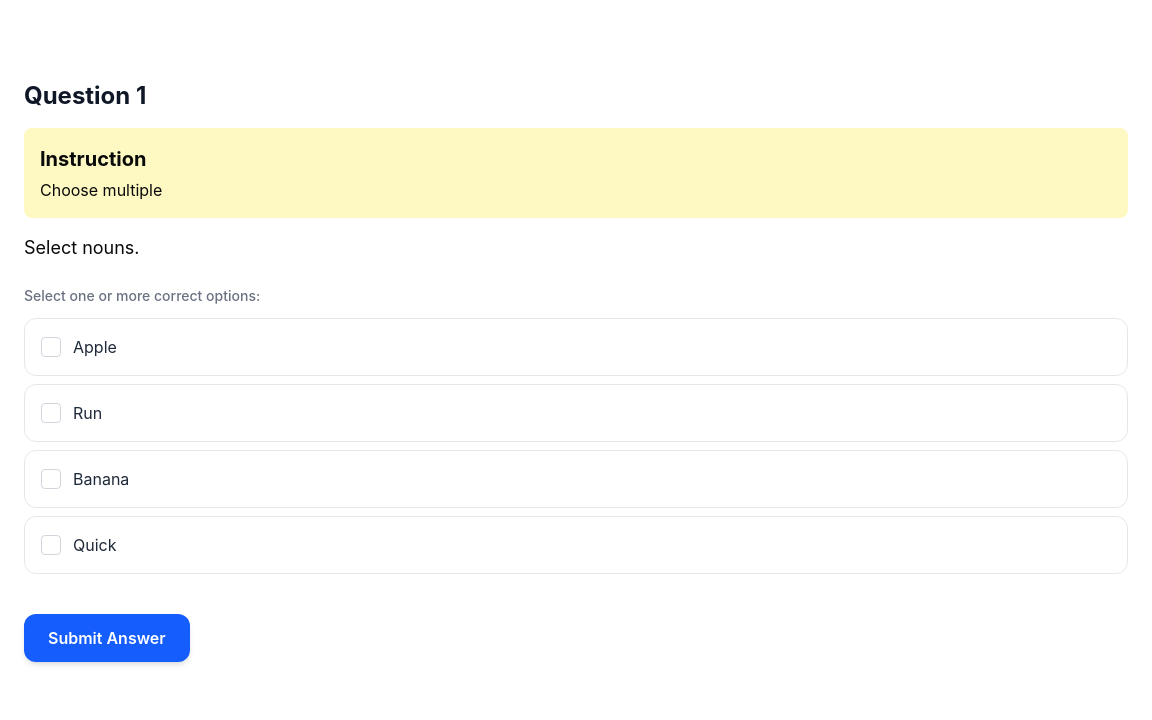
Test: QuestionPage - Reading & Listening MCQs › interacts and submits MCQ Multiple Choice question
Expected: the text "Select nouns." is shown, [24,237,140,258]
// Toggle options
Click the text "Apple". click: (95, 347)
box: [73,337,117,357]
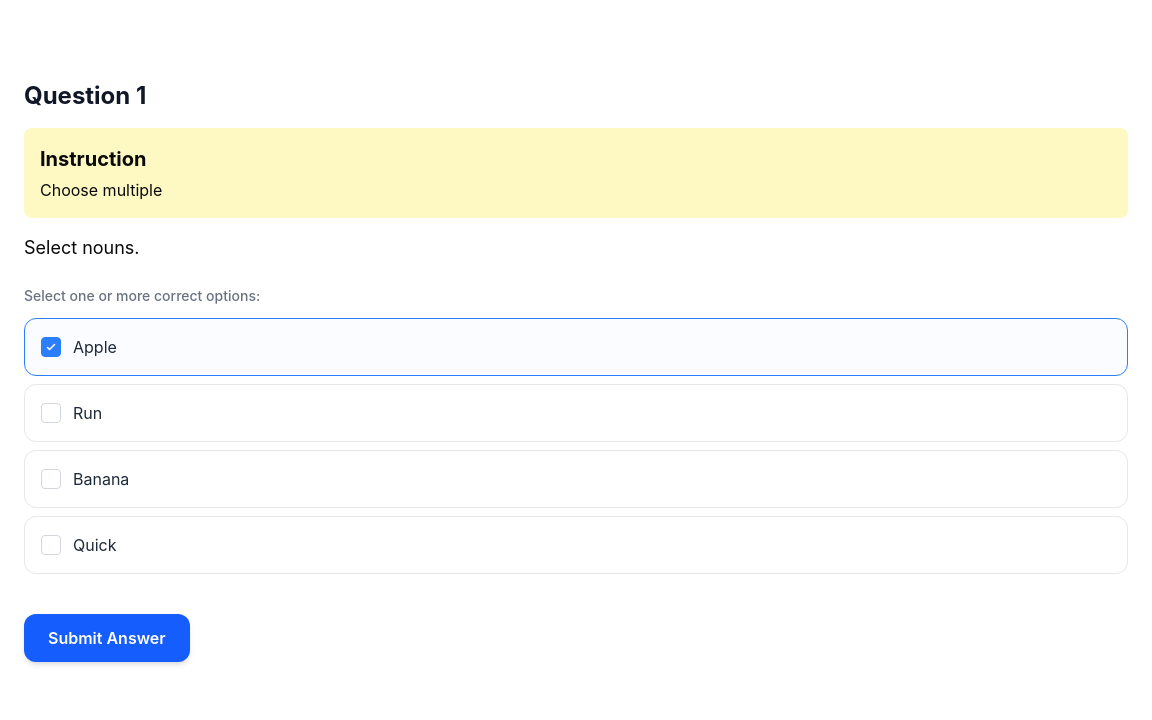
Click the text "Banana". click: (101, 479)
box: [73,469,129,489]
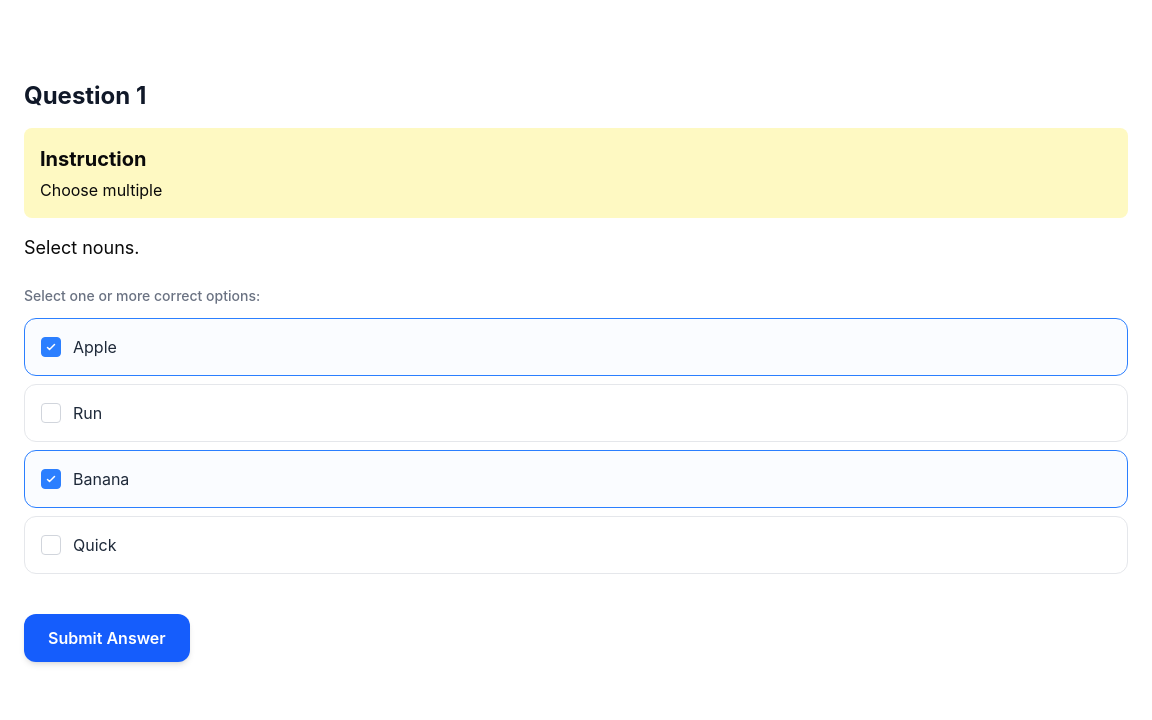
// Deselect and re-select
Click the text "Run". click: (88, 413)
box: [73,403,102,423]
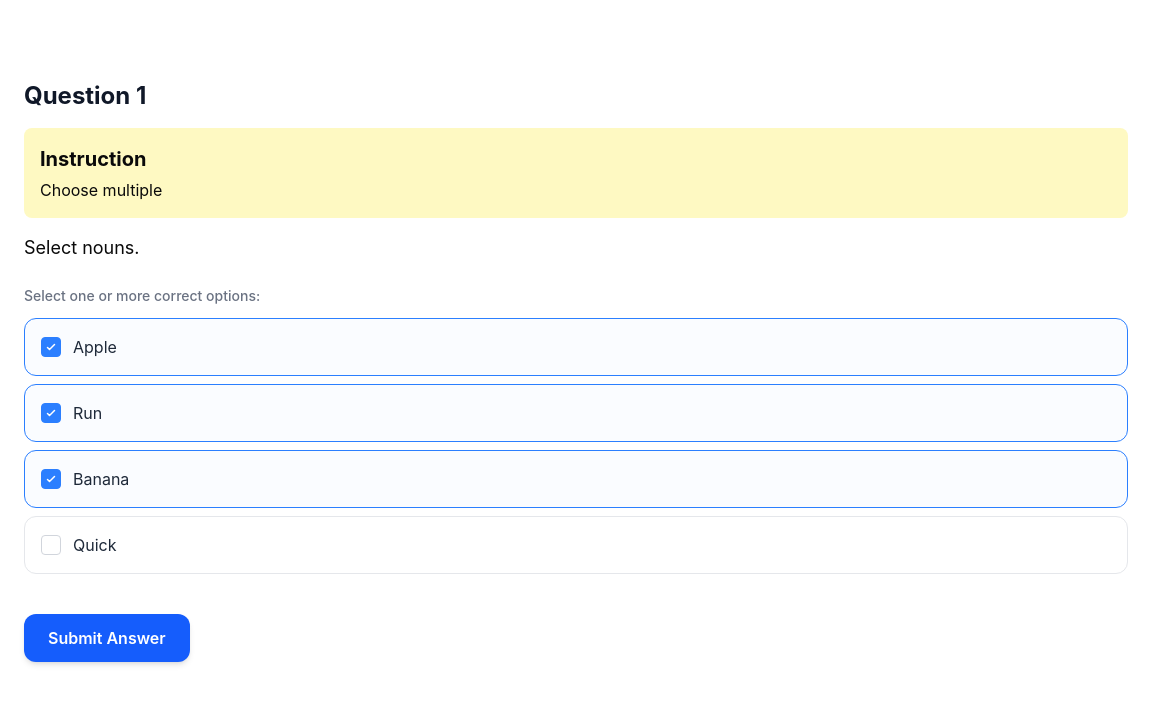
Click the text "Run". click: (88, 413)
box: [73,403,102,423]
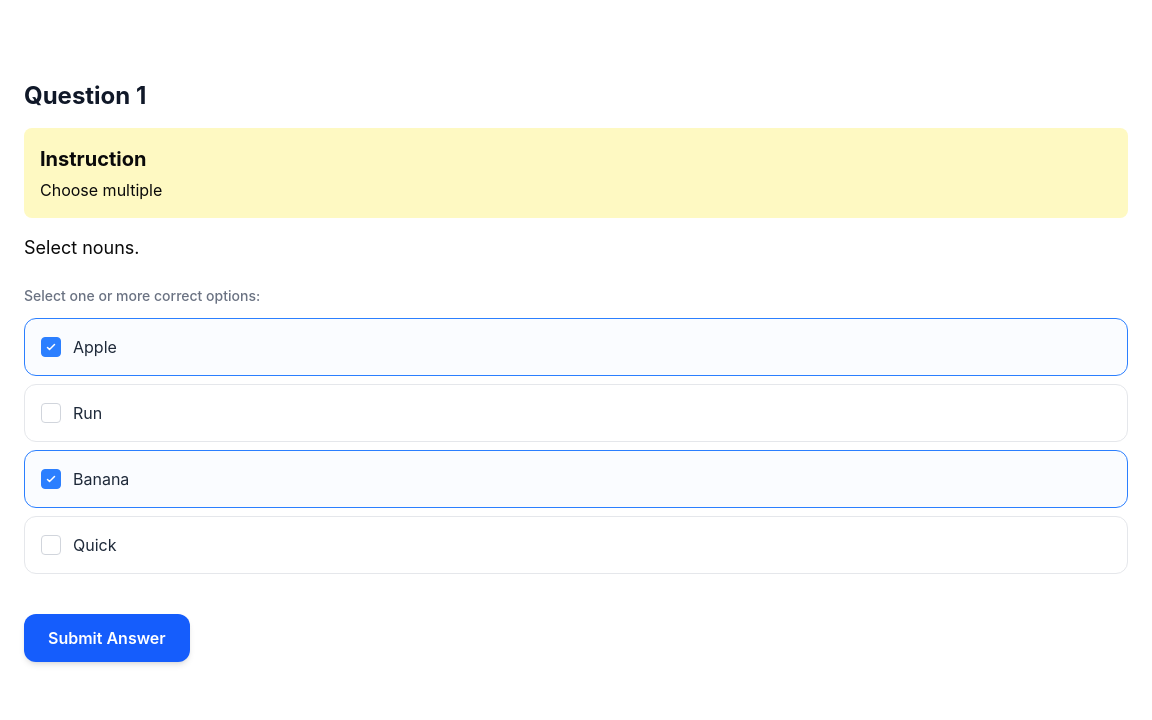
Click the button "Submit Answer". click: (107, 638)
box: [24,614,190,662]
(page scrolled)
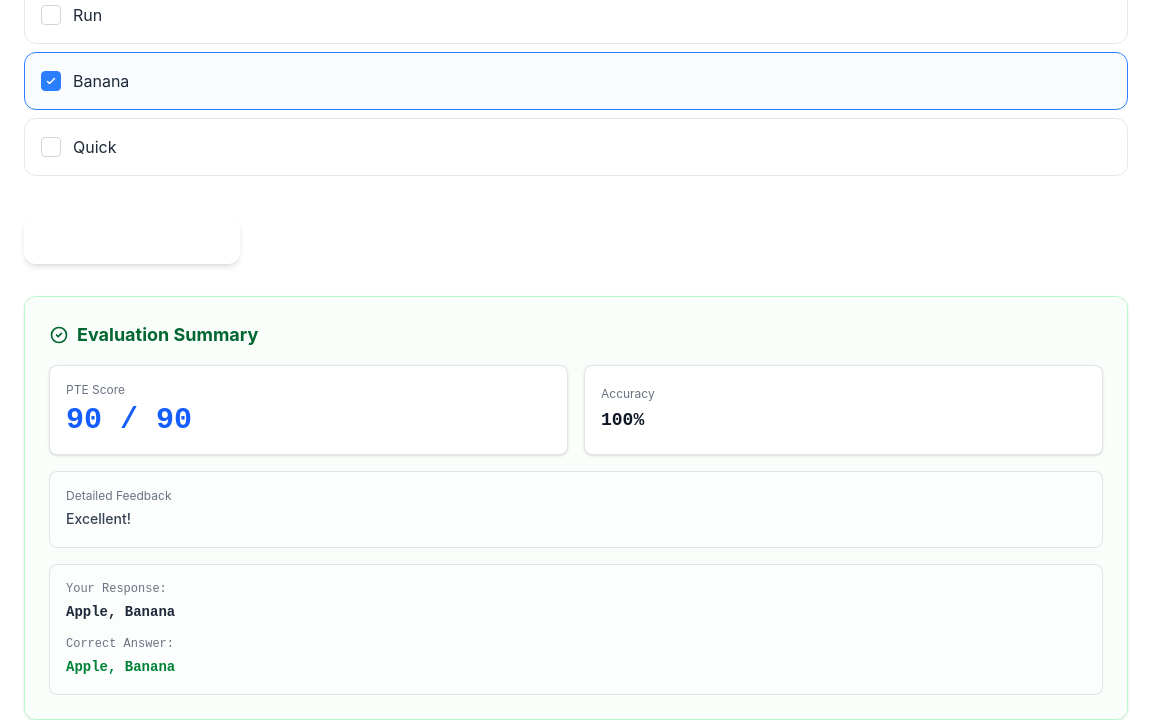
Expected: the heading "Evaluation Summary" is shown, [49,324,258,345]
Expected: the text "90 / 90" is shown, [66,403,192,437]
